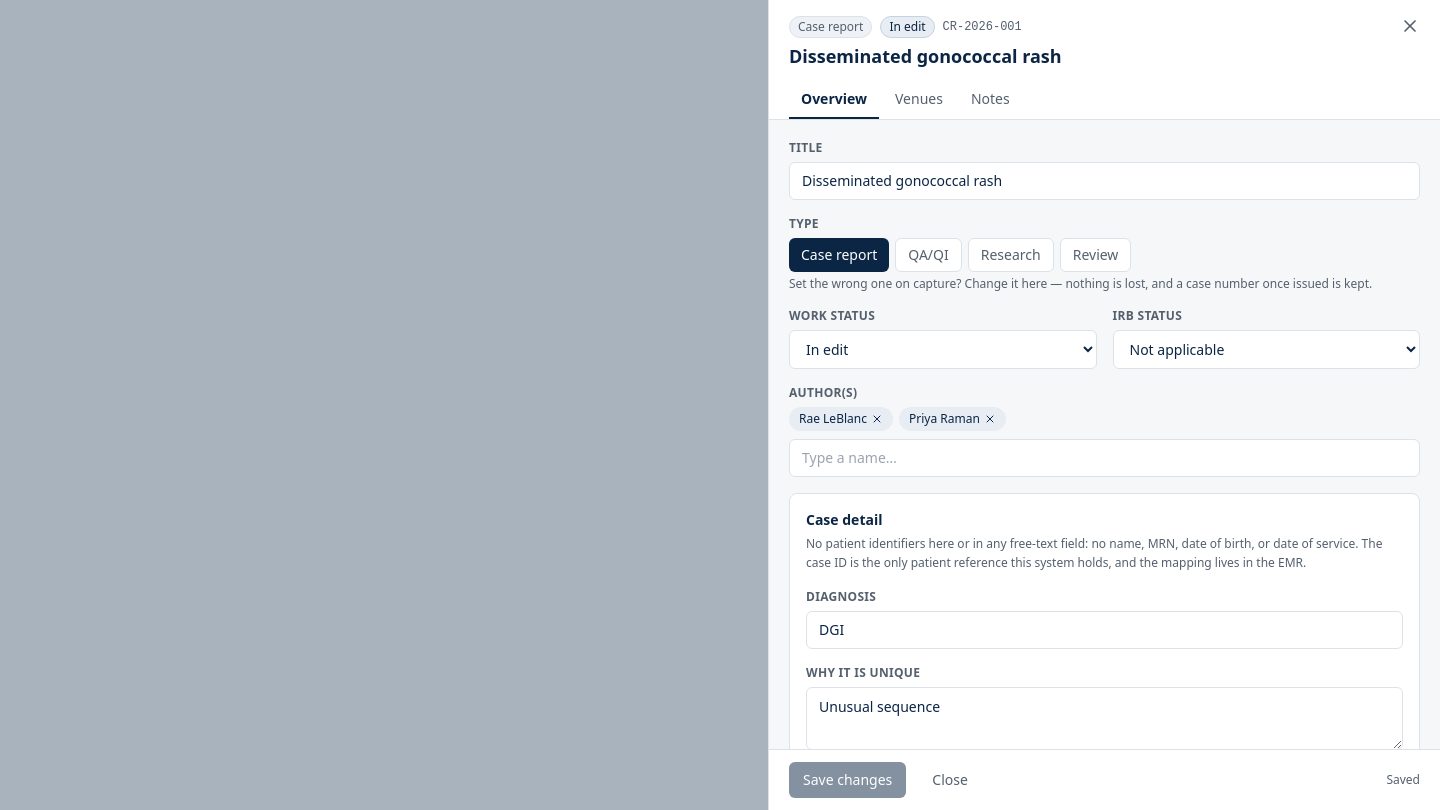
Test: saving › enables Save and flags unsaved changes once a field is edited
This screenshot has width=1440, height=810.
In the field showing "Disseminated gonococcal rash": (1104, 181) 789,162 -> 1420,200, type "!"
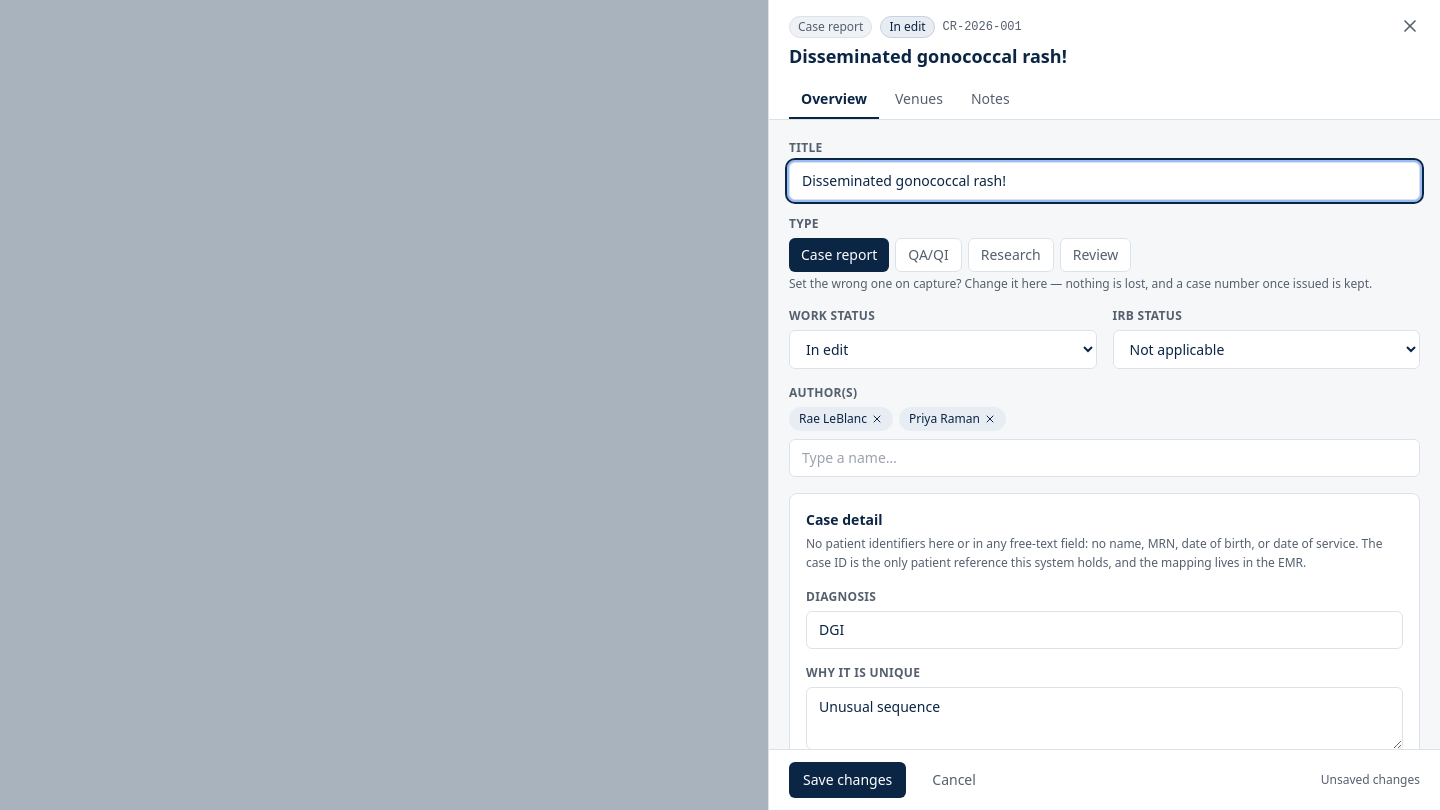
Check: the button "Save changes" is enabled, box 789,762 -> 906,798
Check: the text "Unsaved changes" is shown, box 1321,772 -> 1420,788
